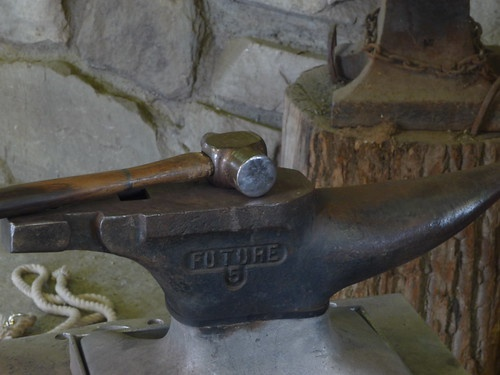hammer: (1, 128, 277, 228)
